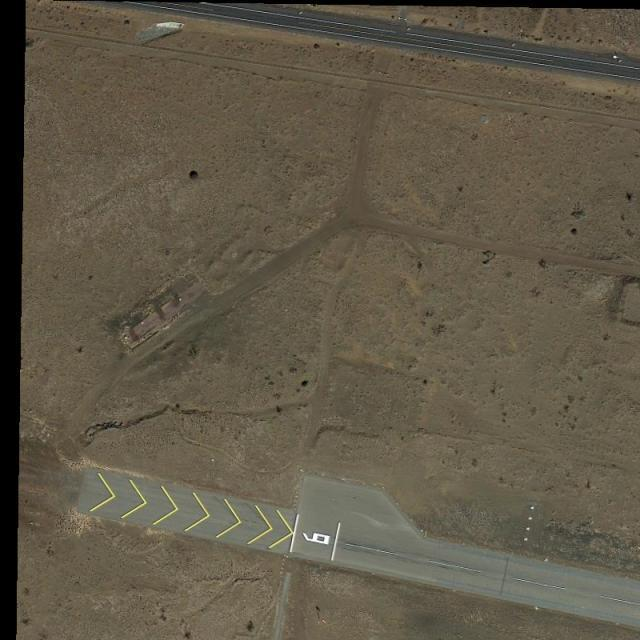vehicle: (613, 55, 625, 64)
